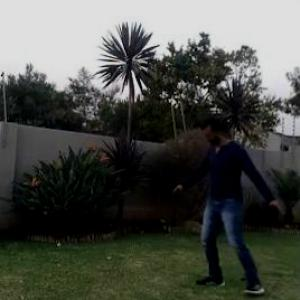land: (163, 105, 290, 299)
